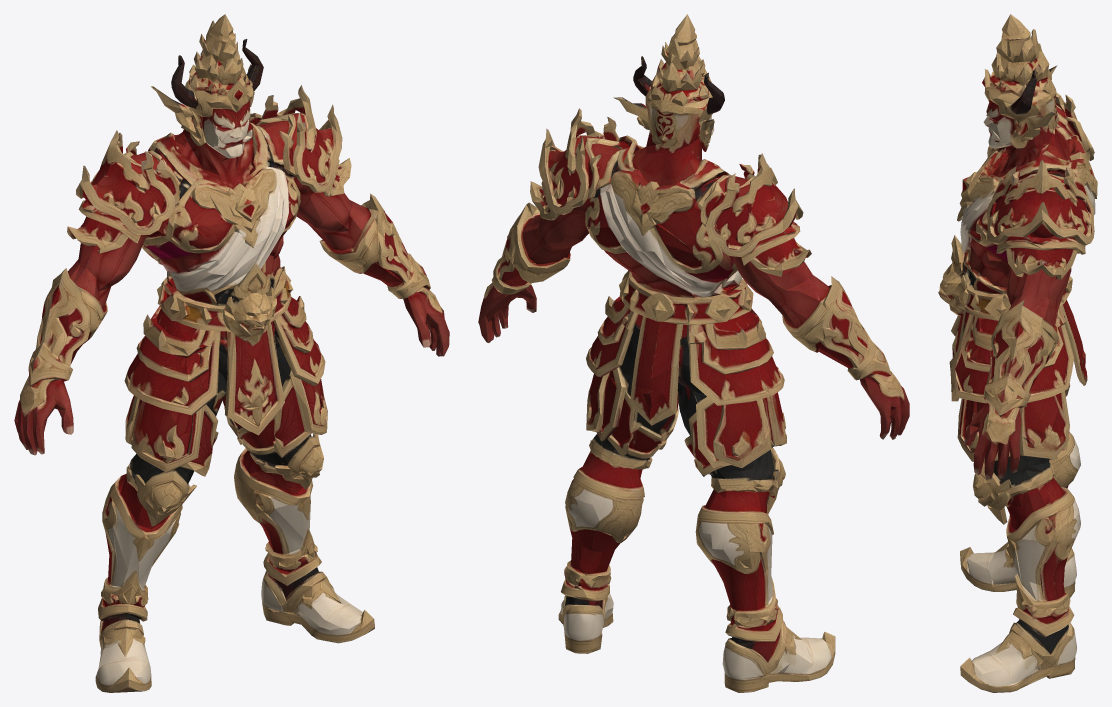
The model's file is dusk_fort_3.glb.
3 renders of one model, left to right at view 1: azimuth 30°, elevation 25°; view 2: azimuth 150°, elevation 25°; view 3: azimuth 270°, elevation 25°, orthographic. The views are drawn at different scales.
Bounding box in the file's own units: 1.32 × 1.9 × 0.4452.
Materials: 1 (1 with a texture image).
